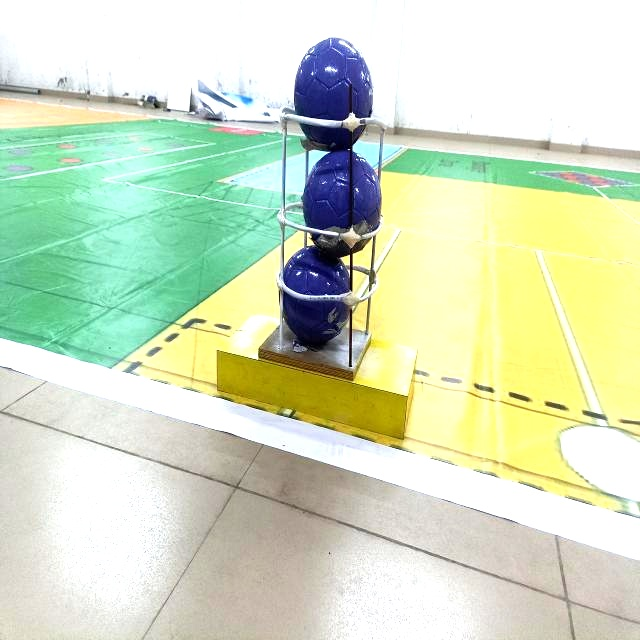purple_ball: (299, 38, 371, 146), (303, 151, 380, 244), (286, 246, 354, 343)
silo: (276, 99, 380, 378)
